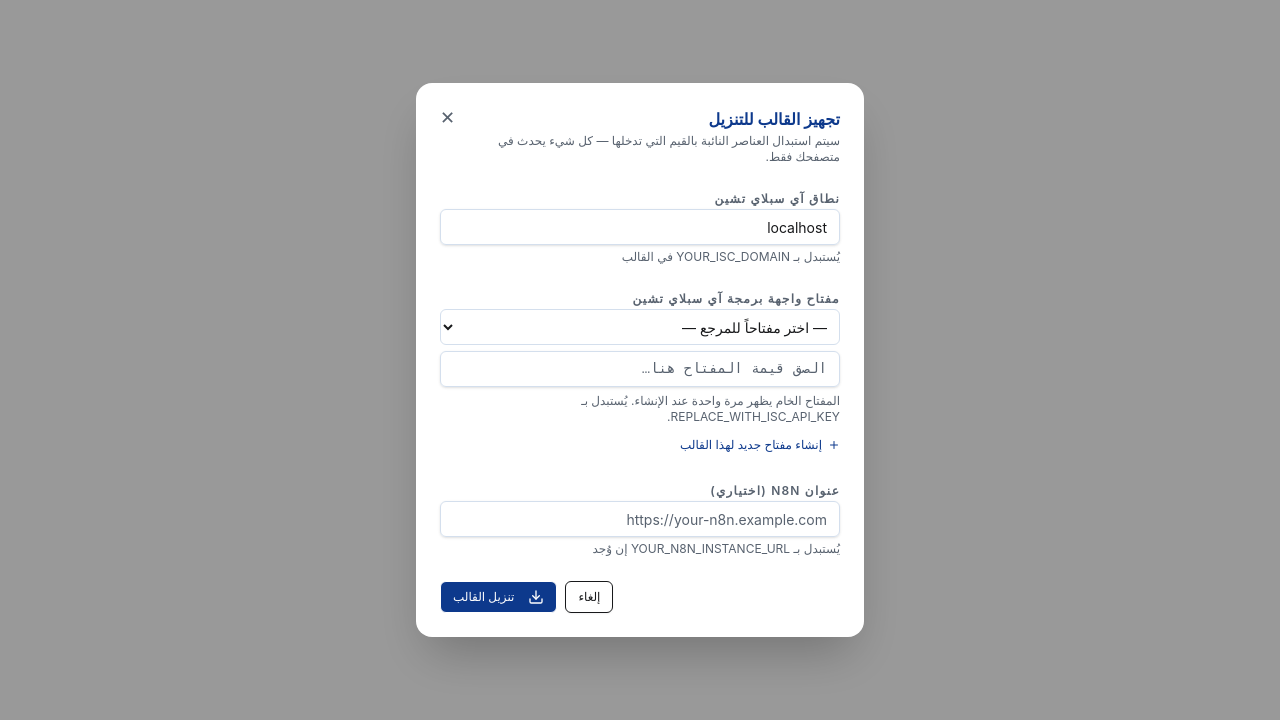
Test: PrepareDownloadModal — duplicate-key guard (Task 609) › shows the Arabic duplicate-key error when ar=true
This screenshot has width=1280, height=720.
Step 1. Click the button "إنشاء مفتاح جديد لهذا القالب" → (760, 445), box [680,437,840,453]
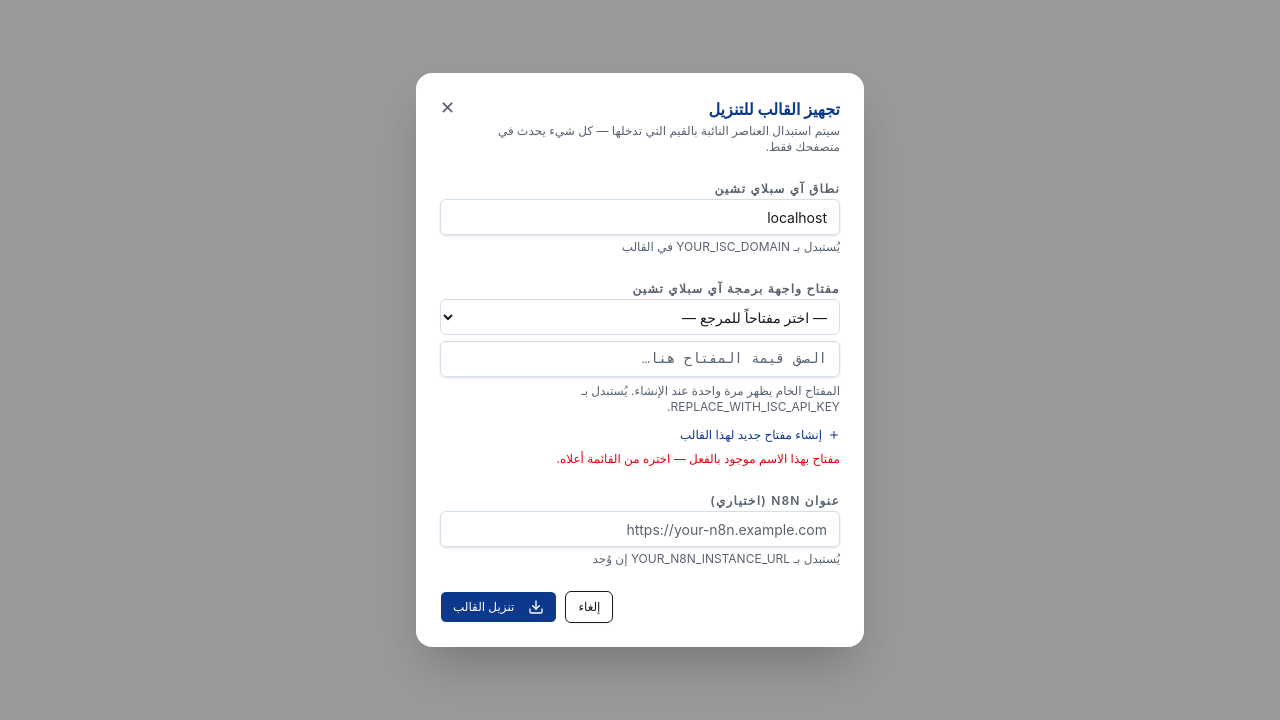
Expected: the text "مفتاح بهذا الاسم موجود بالفعل — اختره من القائمة أعلاه." is shown, [556,451,840,466]
